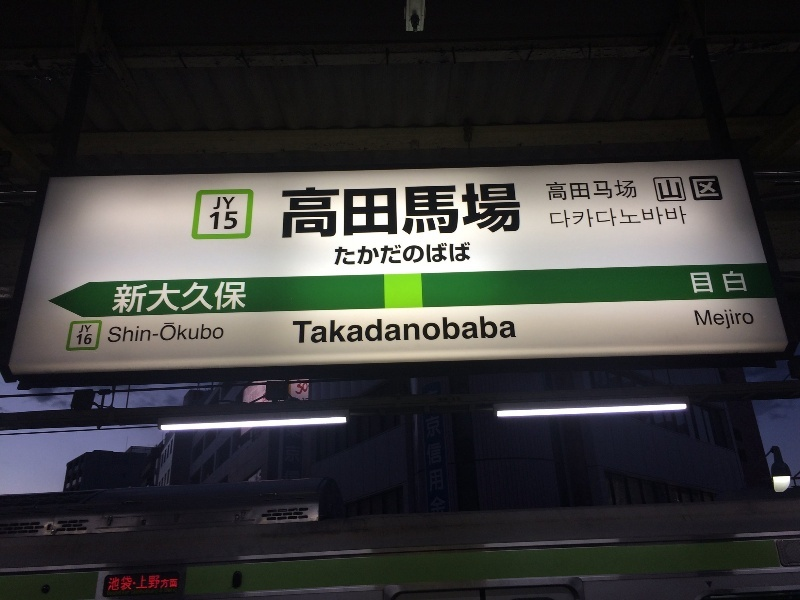text: (433, 415, 448, 515), (289, 183, 304, 239), (305, 183, 320, 239), (321, 183, 336, 239), (337, 183, 352, 239), (353, 183, 368, 239), (369, 183, 384, 239), (385, 183, 400, 239), (401, 183, 416, 239), (417, 183, 432, 239), (433, 183, 448, 239), (449, 183, 464, 239), (465, 183, 480, 239), (481, 183, 496, 239), (497, 183, 512, 239), (424, 415, 432, 515), (513, 183, 522, 239), (129, 282, 144, 314), (145, 282, 160, 314), (161, 282, 176, 314), (177, 282, 192, 314), (193, 282, 208, 314), (209, 282, 224, 314), (225, 282, 240, 314), (305, 316, 320, 344), (321, 316, 336, 344), (337, 316, 352, 344), (353, 316, 368, 344), (369, 316, 384, 344), (385, 316, 400, 344), (401, 316, 416, 344), (417, 316, 432, 344), (433, 316, 448, 344), (449, 316, 464, 344), (465, 316, 480, 344), (481, 316, 496, 344), (497, 316, 512, 344), (705, 271, 720, 295), (721, 271, 736, 295), (117, 282, 128, 314), (209, 321, 225, 343), (673, 206, 689, 228), (337, 243, 352, 266), (353, 243, 368, 266), (369, 243, 384, 266), (385, 243, 400, 266), (401, 243, 416, 266), (417, 243, 432, 266), (433, 243, 448, 266), (449, 243, 464, 266), (690, 271, 704, 295), (113, 321, 128, 343), (129, 321, 144, 343), (145, 321, 160, 343), (161, 321, 176, 343), (177, 321, 192, 343), (193, 321, 208, 343), (561, 206, 576, 228), (577, 206, 592, 228), (593, 206, 608, 228), (609, 206, 624, 228), (625, 206, 640, 228), (641, 206, 656, 228), (657, 206, 672, 228), (561, 181, 576, 202), (577, 181, 592, 202), (593, 181, 608, 202), (609, 181, 624, 202), (293, 316, 304, 344), (657, 179, 672, 199), (673, 179, 688, 199), (689, 179, 704, 199), (705, 309, 720, 329), (721, 309, 736, 329), (737, 309, 752, 329), (546, 181, 560, 202), (283, 183, 288, 239), (705, 179, 719, 199), (737, 271, 748, 295), (113, 575, 128, 592), (129, 575, 144, 592), (145, 575, 160, 592), (161, 575, 176, 592), (625, 181, 637, 202), (210, 212, 224, 230), (225, 212, 238, 230), (550, 206, 560, 228), (694, 309, 704, 329), (241, 282, 247, 314), (465, 243, 471, 266), (214, 197, 224, 210), (225, 197, 235, 210), (81, 334, 92, 345), (298, 379, 304, 399), (513, 316, 517, 344), (81, 325, 92, 333), (305, 379, 309, 399), (753, 309, 756, 329), (109, 575, 112, 592), (110, 321, 112, 343), (335, 243, 336, 266), (78, 334, 80, 345), (177, 575, 178, 592)
